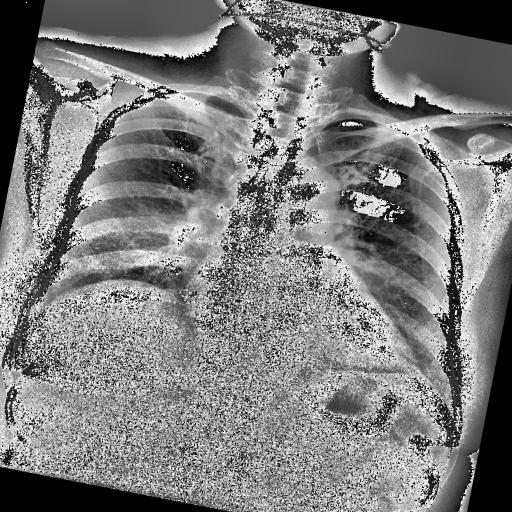0- Aortic enlargement: (266, 156, 344, 222)
11- Pleural thickening: (329, 113, 398, 137)
3- Cardiomegaly: (175, 260, 433, 379), (170, 278, 434, 386), (175, 272, 428, 384)
